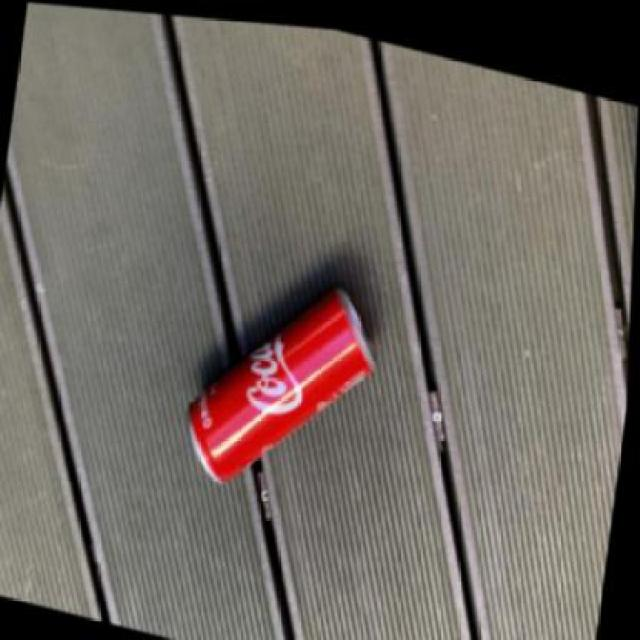Metal: (187, 287, 381, 478)
